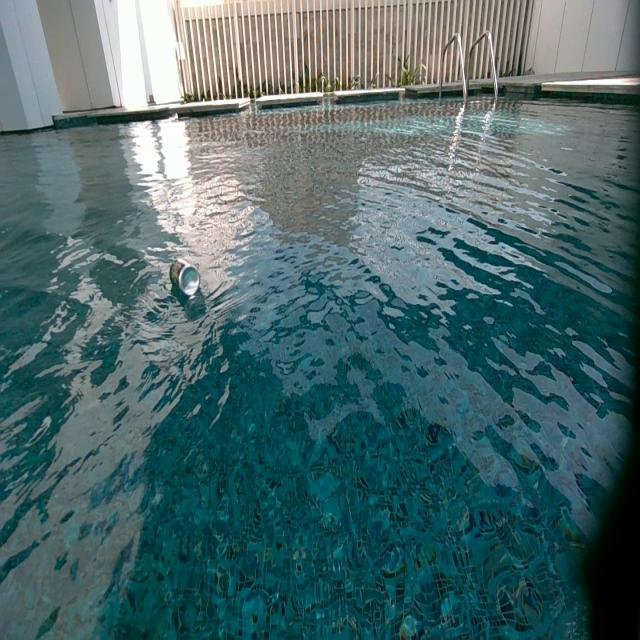Cans: (169, 260, 200, 298)
